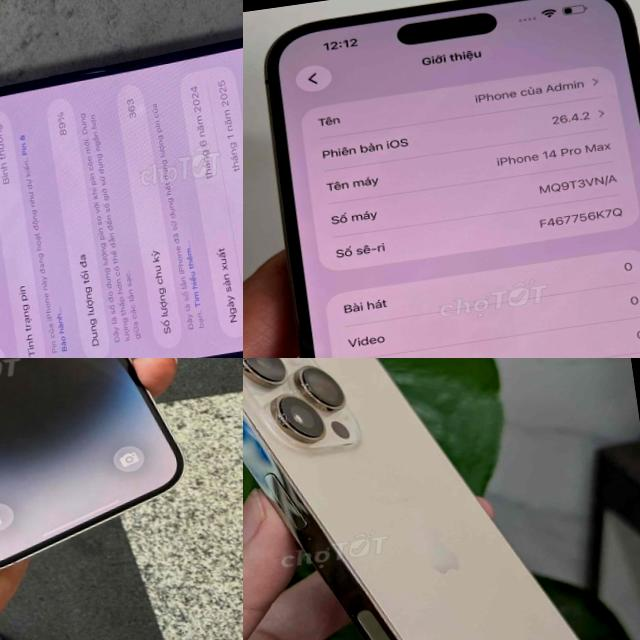gen_14: (243, 0, 640, 358), (0, 358, 198, 605)
gen_15: (0, 12, 243, 358)
gen_16: (243, 358, 640, 640)
scratch: (296, 378, 318, 399), (276, 412, 294, 430), (243, 358, 254, 371)
